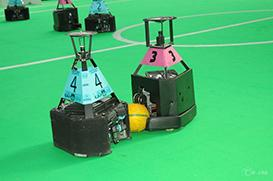robot: (46, 31, 133, 156), (124, 14, 199, 133)
